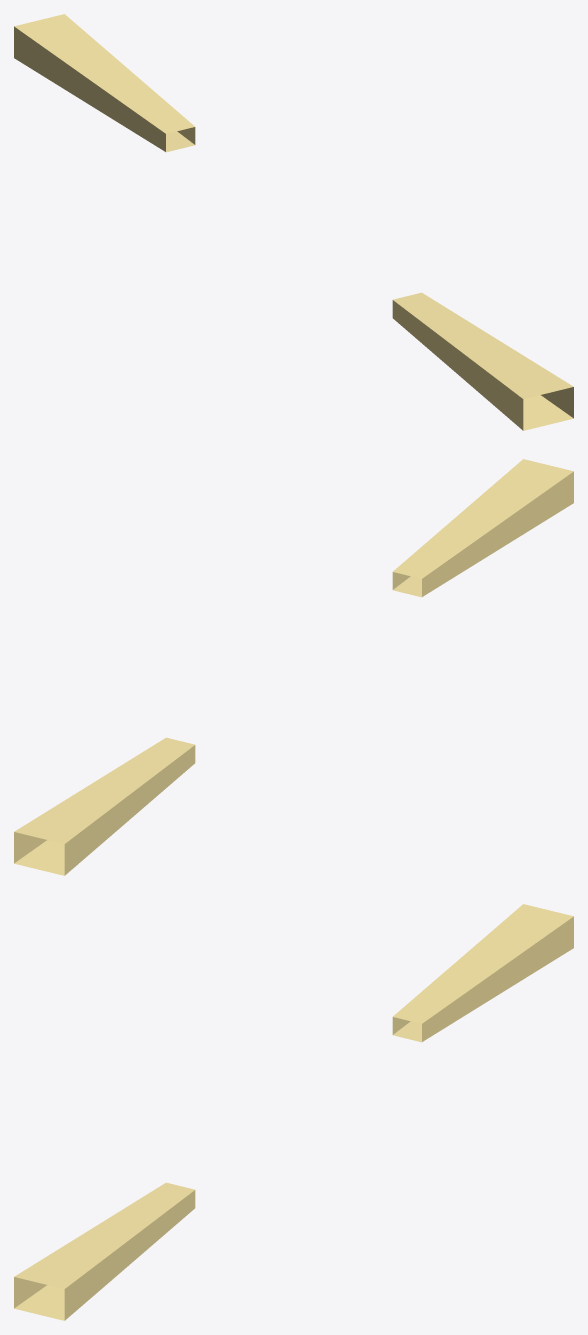
File: infra_lighthouse_beams_1.glb
The picture shows the model from 3 angles, top to bottom: view 1: azimuth 30°, elevation 25°; view 2: azimuth 150°, elevation 25°; view 3: azimuth 330°, elevation 25°; orthographic projection.
Size of the model in its own units: 2.07 by 1.24 by 36.
